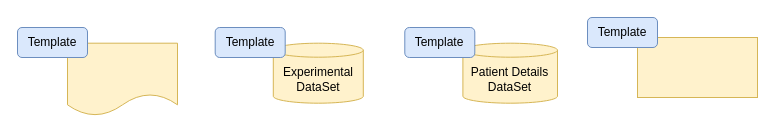
The diagram is 775 pixels wide and 134 high, and some of its shapes have lost their labels. The shapes that lost their labels are listed below. From the top down, each one's centre as x and y in pixels, then its label:
the point at 122,79: Clinical trials patient readings template
the point at 697,67: Personalized Medicine API
